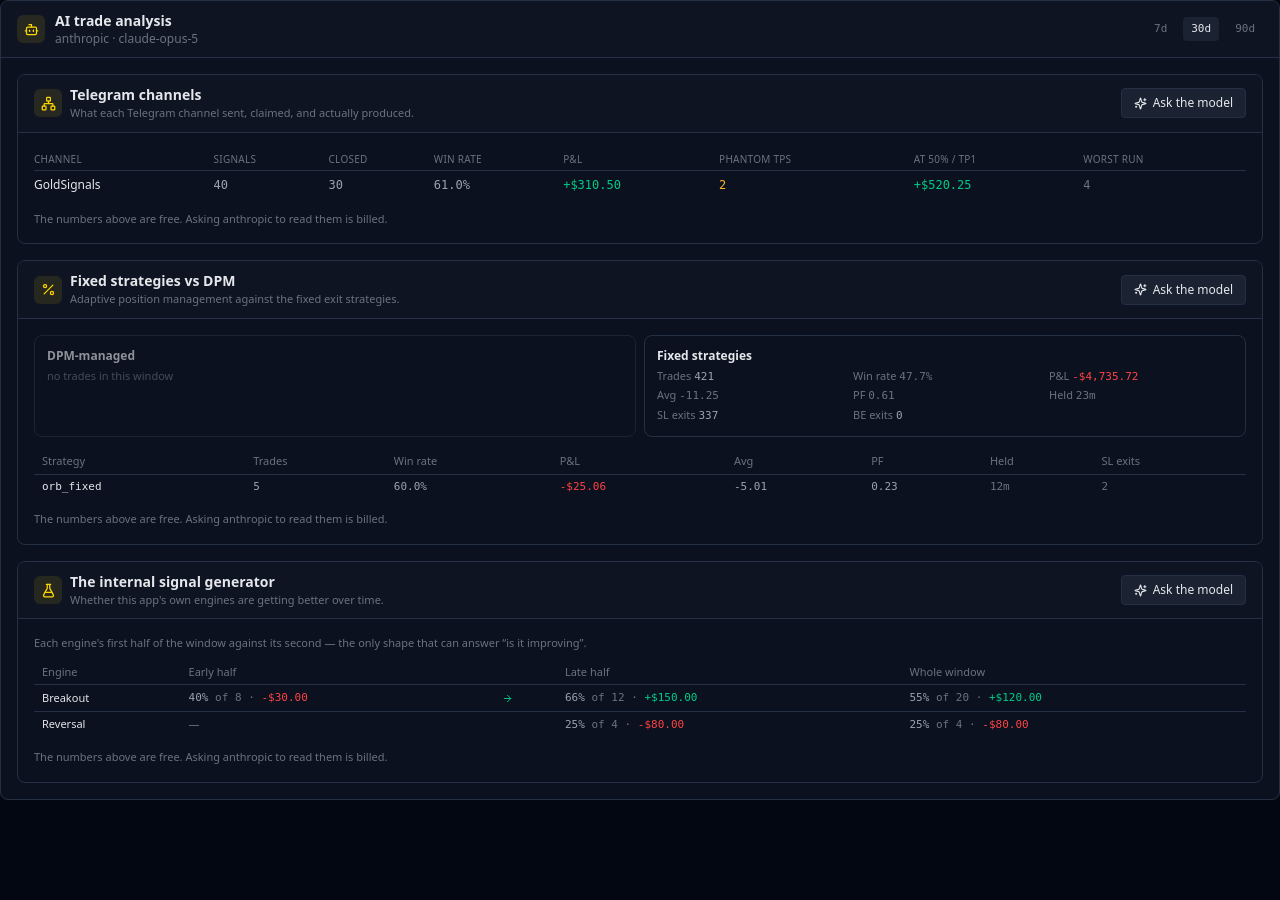
it: what costs money › shows a refusal from the backend verbatim, in its own section
Check: the text "GoldSignals" is shown, box [34,170,214,199]
Click the button "Ask the model" in the row of "Telegram channels": coordinates (1183, 103) [1121,88,1246,118]
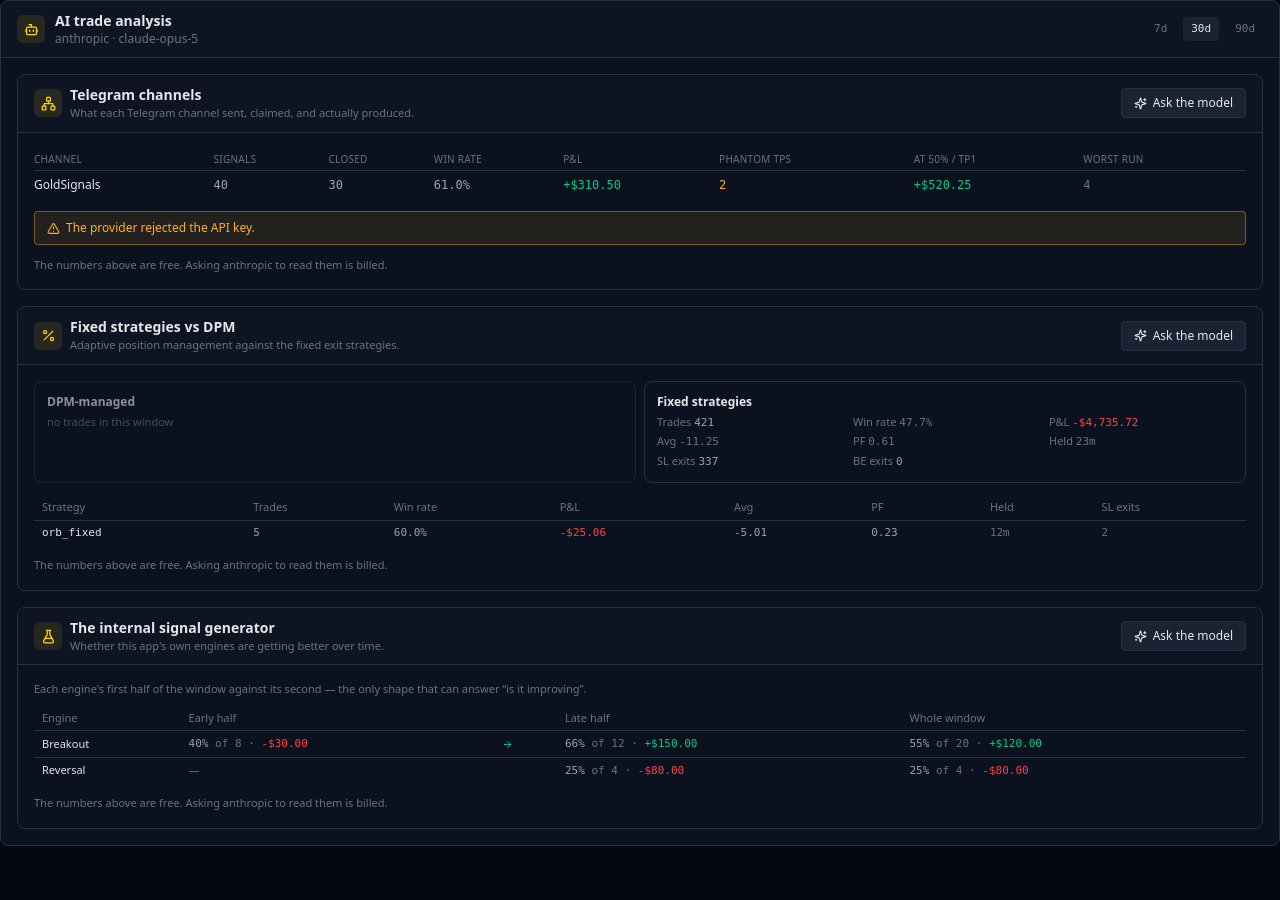
Check: the message reads "The provider rejected the API key.", box [66,219,255,236]
